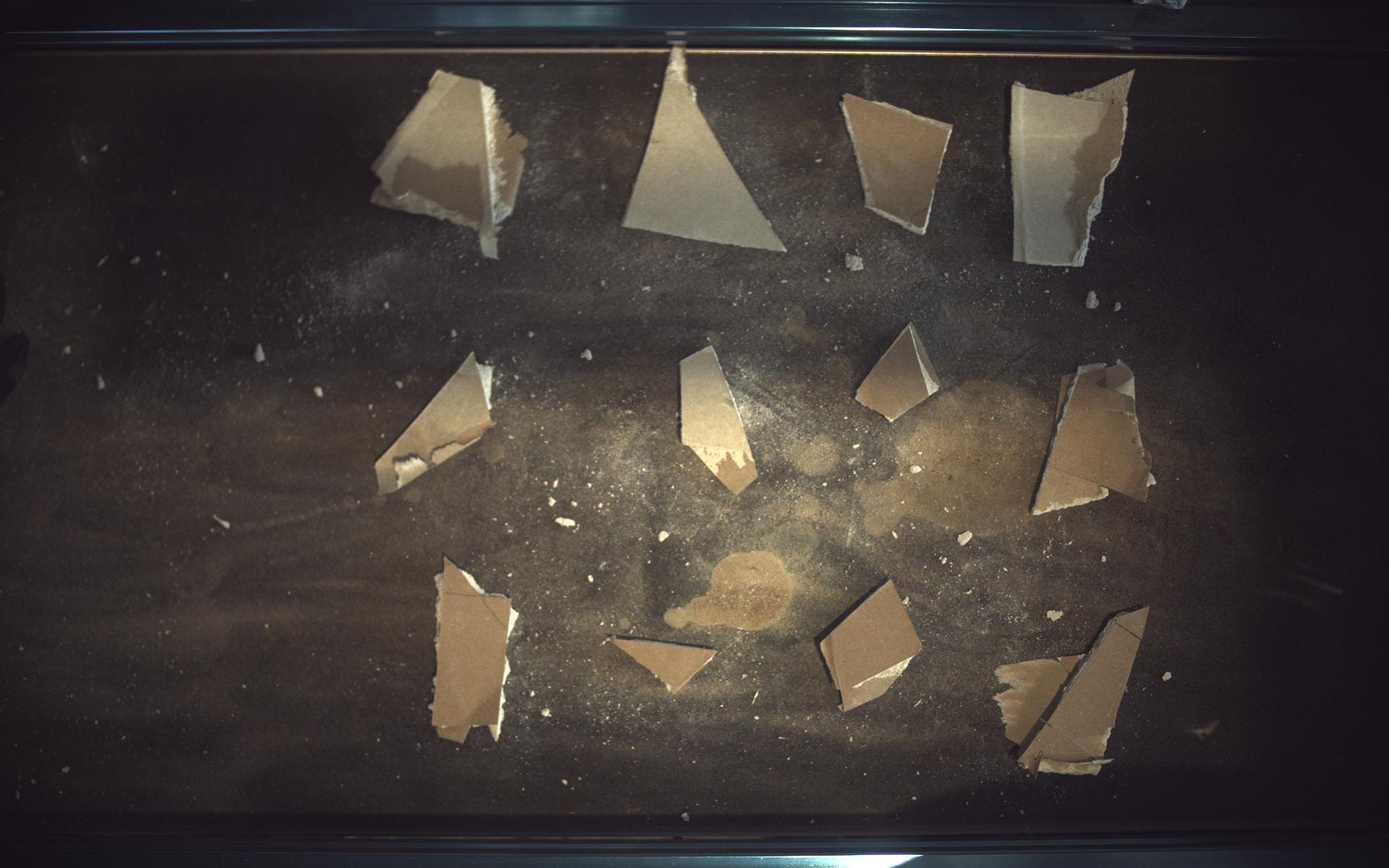gypsum_board: (624, 45, 786, 251), (371, 69, 528, 258), (996, 608, 1152, 776), (1012, 69, 1137, 266), (1035, 360, 1157, 515), (375, 353, 492, 495), (432, 558, 519, 744), (842, 93, 954, 234), (820, 581, 923, 712), (681, 346, 759, 495), (857, 323, 943, 422), (609, 639, 718, 694)
